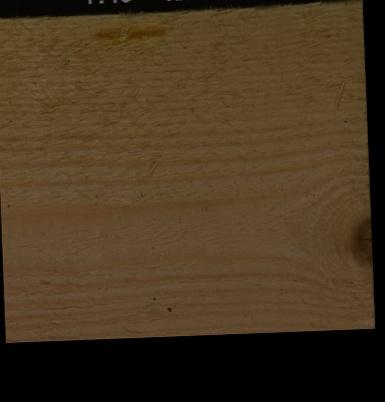sound_knot: (348, 213, 371, 269)
